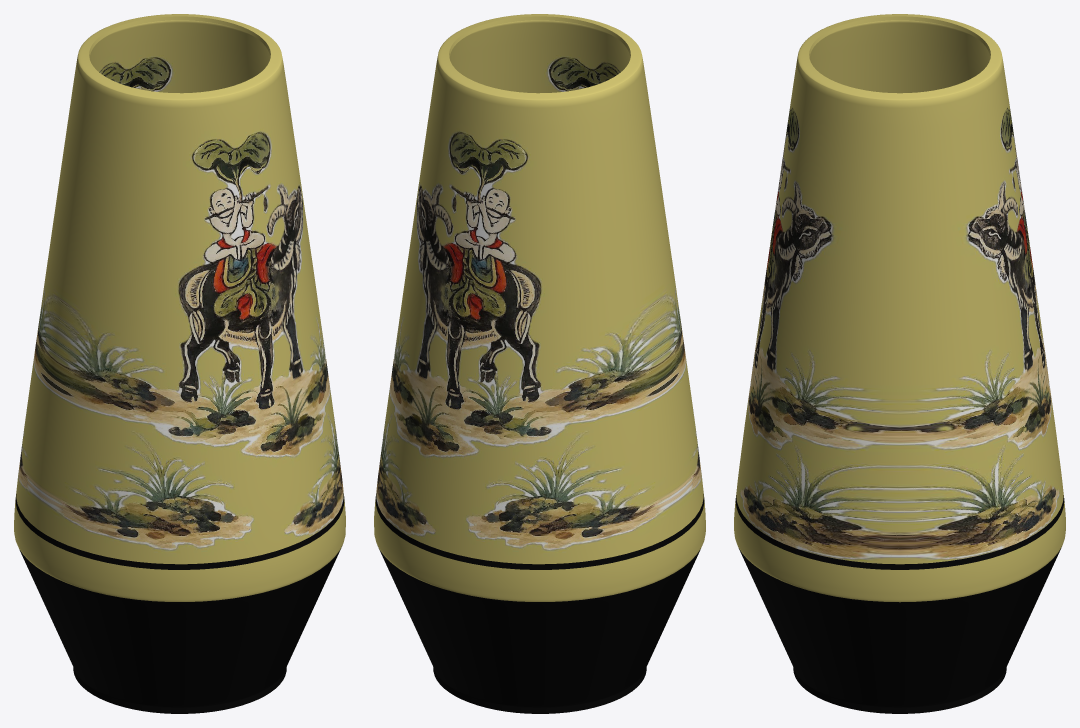
The model's file is chan trau.fbx.
The picture shows the model from 3 angles, left to right: view 1: azimuth 30°, elevation 25°; view 2: azimuth 150°, elevation 25°; view 3: azimuth 270°, elevation 25°; orthographic projection.
Parts seen in each view (by area): view 1: Line001; view 2: Line001; view 3: Line001.
Boxes of the visible parts, x1,y1,x2,y2 form: Line001: (14,14,345,713); Line001: (374,14,705,713); Line001: (734,14,1065,713).
Bounding box in the file's own units: 82.34 × 169 × 82.34.
Materials: 2 (1 with a texture image).
